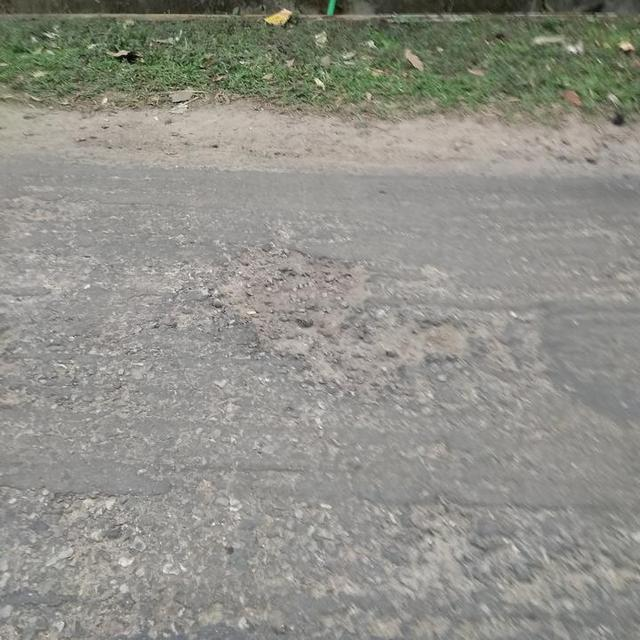Pothole: (207, 232, 472, 388)
